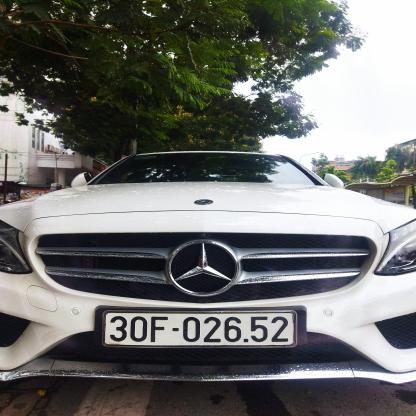biensoxe: (97, 308, 300, 347)
